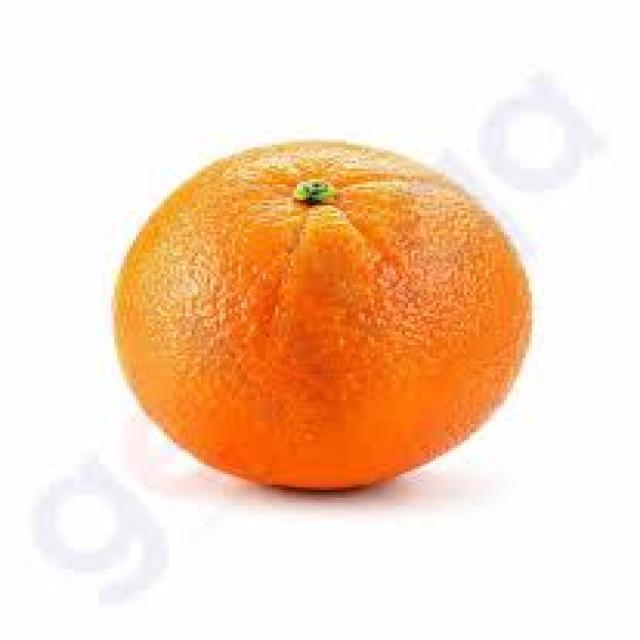non-mango: (111, 137, 533, 492)
